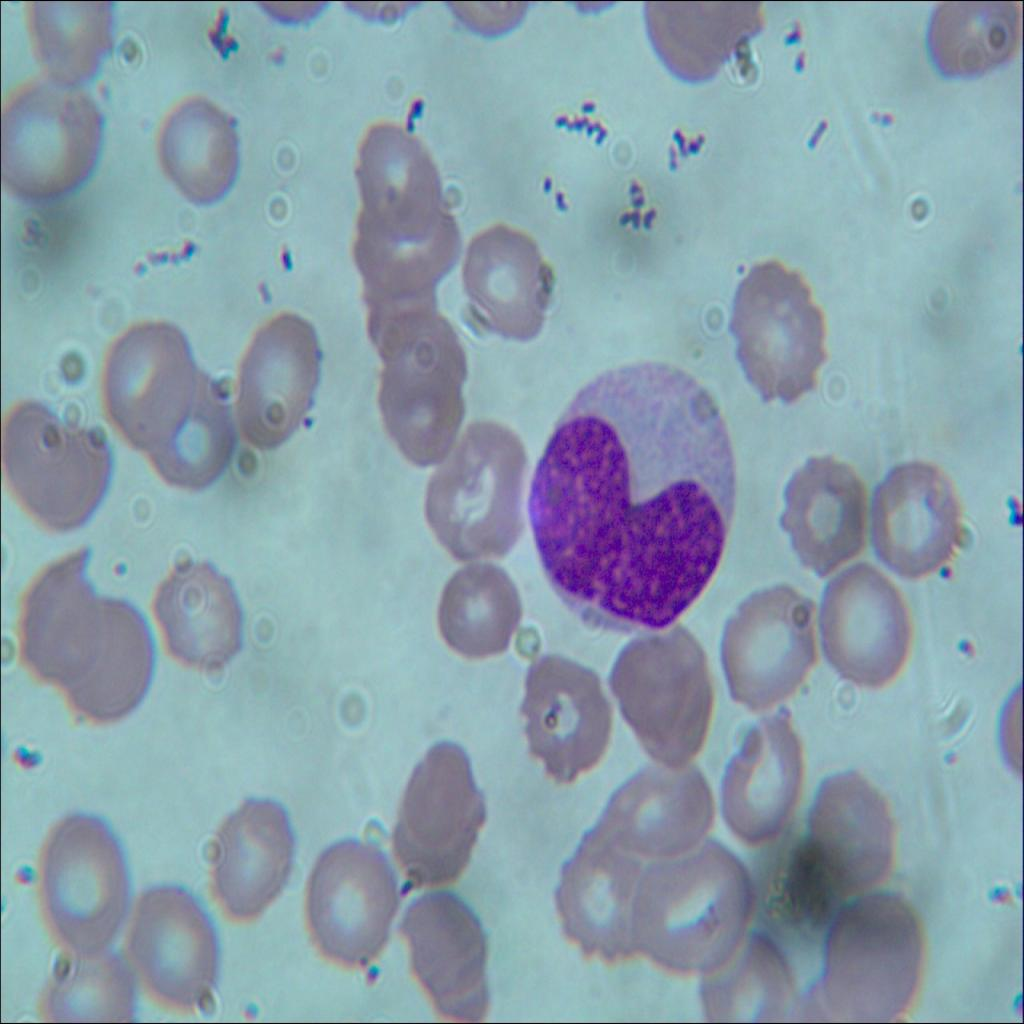Eritrosit: (716, 251, 834, 414), (624, 838, 758, 980), (710, 577, 836, 715), (606, 614, 714, 767), (508, 638, 621, 779), (190, 781, 298, 925), (384, 746, 490, 892), (546, 832, 654, 975), (4, 381, 106, 531), (866, 458, 970, 594), (713, 704, 813, 844), (818, 890, 929, 1016), (28, 814, 129, 950), (429, 428, 530, 561), (234, 313, 323, 462), (122, 885, 226, 1008), (59, 588, 151, 724), (0, 71, 103, 191), (146, 364, 240, 495), (783, 438, 868, 582), (820, 561, 914, 691), (148, 555, 248, 677), (14, 555, 104, 688), (98, 319, 198, 437), (789, 778, 899, 884), (298, 847, 398, 962), (341, 202, 468, 292), (432, 551, 526, 672), (156, 86, 246, 212), (349, 118, 439, 244), (460, 219, 558, 334), (602, 760, 719, 856), (376, 354, 463, 467), (404, 890, 490, 1004), (353, 266, 448, 368), (376, 305, 466, 412), (38, 932, 140, 1023), (698, 934, 802, 1023), (926, 0, 1011, 77), (26, 0, 112, 74)
Limfoblast: (528, 358, 738, 639)
Platelet: (948, 622, 981, 671), (229, 986, 271, 1023), (354, 947, 386, 995), (938, 548, 969, 591), (6, 851, 36, 891), (104, 548, 129, 591), (291, 408, 319, 440), (533, 168, 558, 198)
